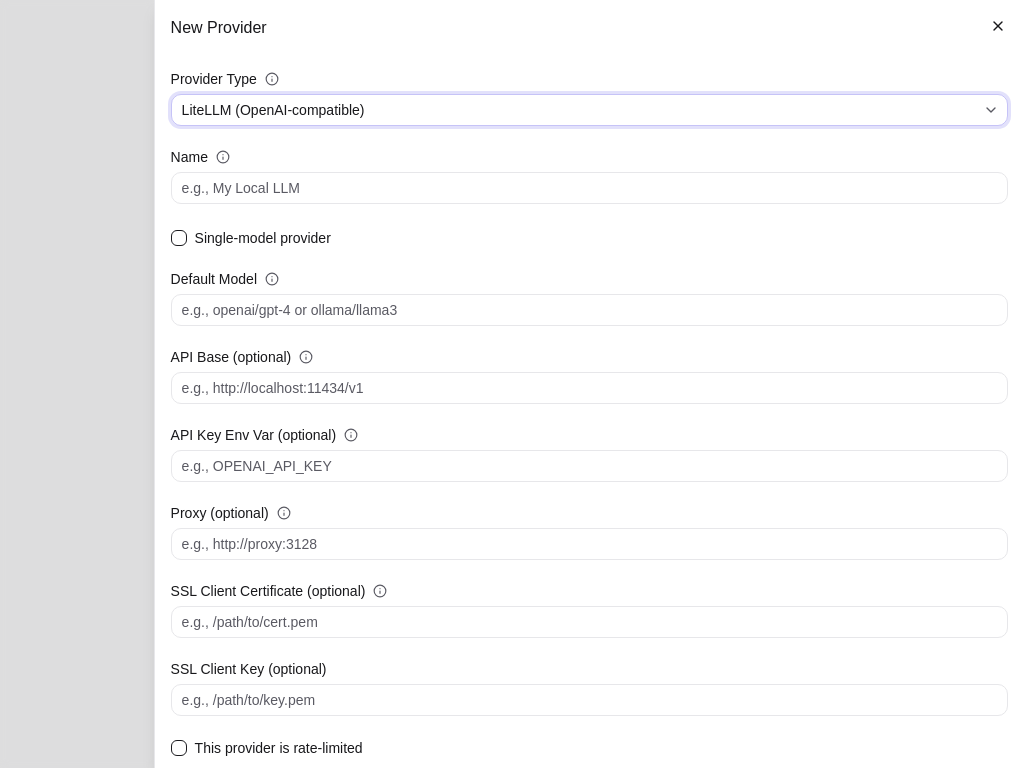
Test: ProviderForm › rate limit configuration › toggles rate limit section when checkbox is clicked
// Check the checkbox
Click the checkbox named "this provider is rate-limited" next to "This provider is rate-limited" at (179, 748), box [171,740,187,756]
(page scrolled)
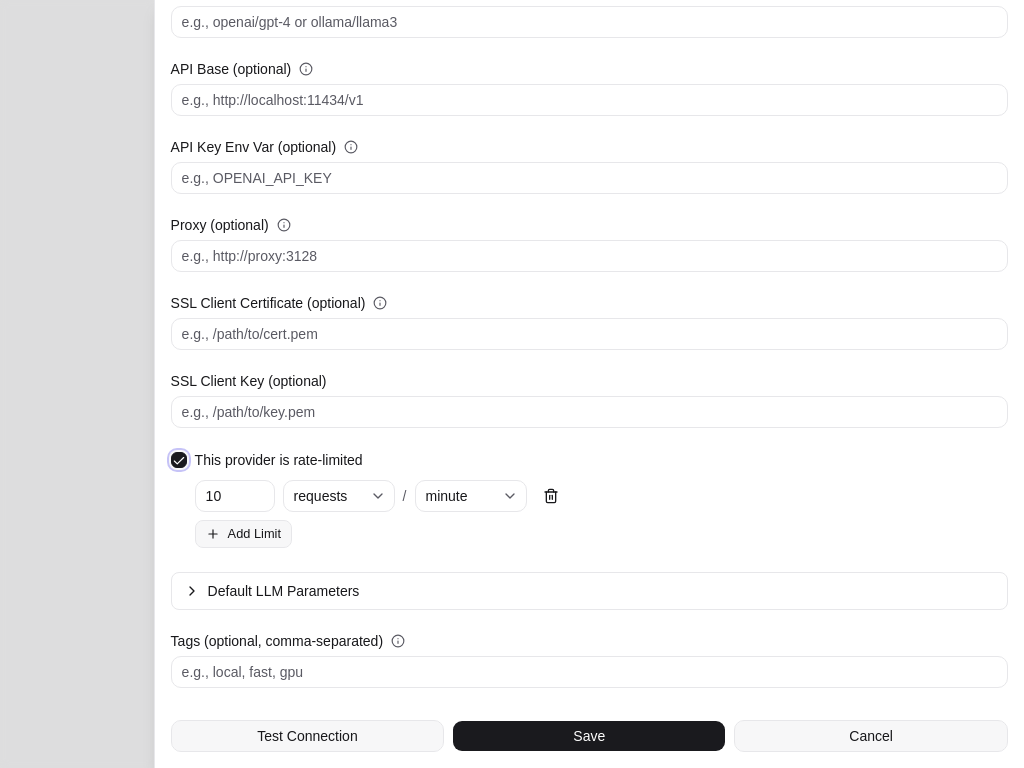
Result: the number field named "rate limit value 1" is shown at [195,480,275,512]
